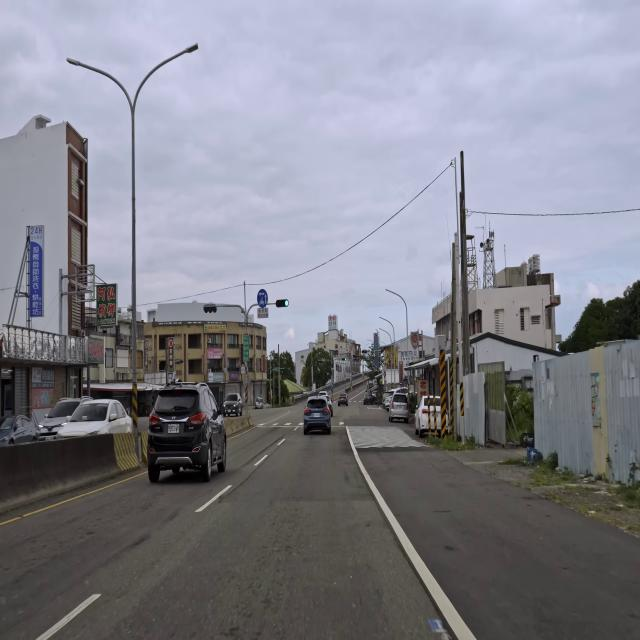green light: (275, 299, 289, 307), (342, 357, 346, 361)
